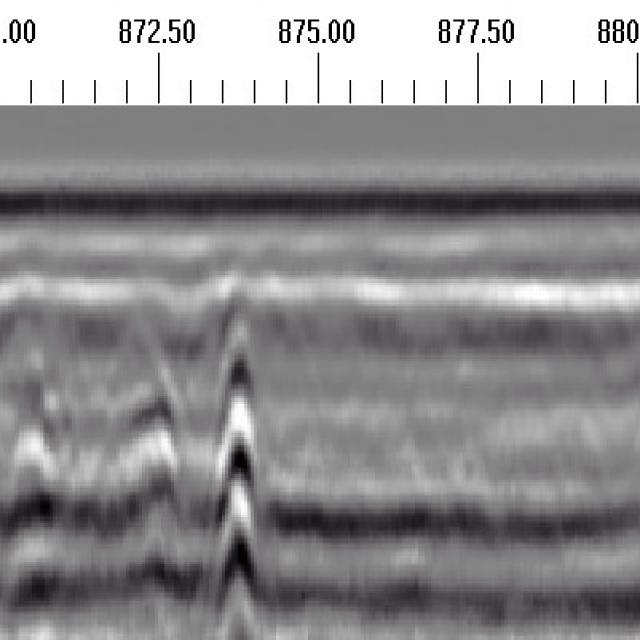crack: (215, 274, 263, 637)
loose: (12, 381, 186, 528)
